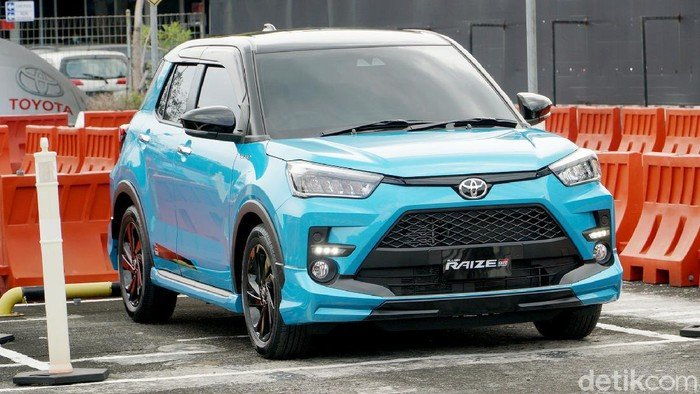mobil: (117, 24, 638, 368)
